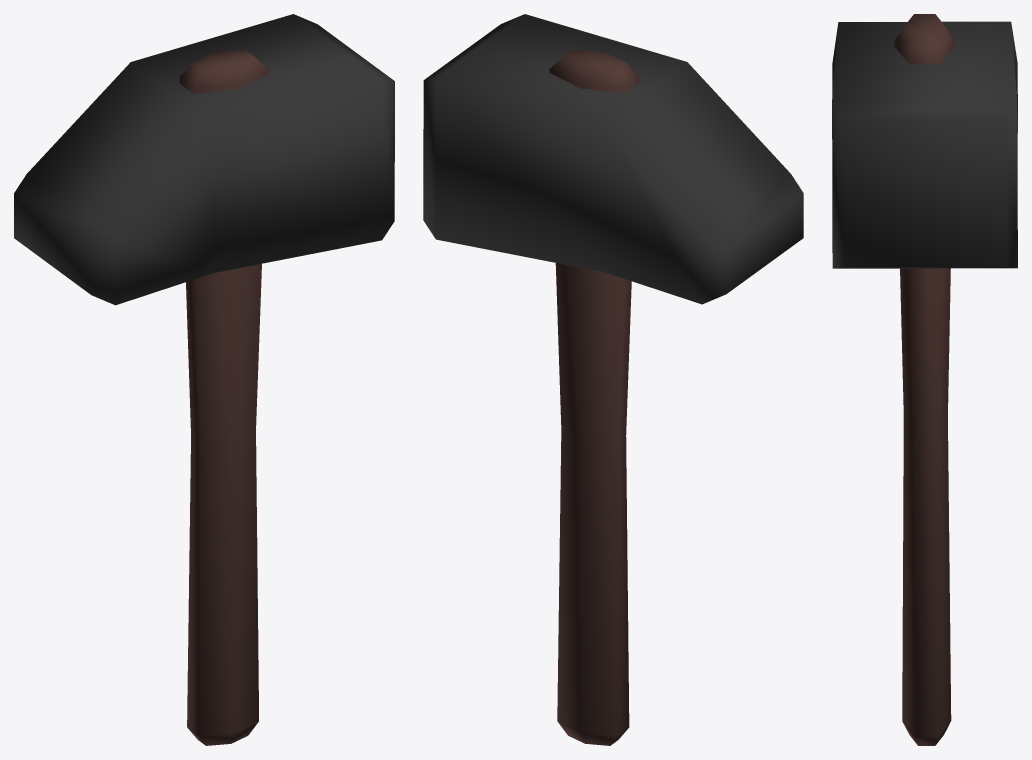
The model's file is hammer_v2.glb.
3 views of the same model, side by side, from view 1: azimuth 30°, elevation 25°; view 2: azimuth 150°, elevation 25°; view 3: azimuth 270°, elevation 25° (orthographic). The views are drawn at different scales.
Visible parts, largest first — view 1: Hammer_02; view 2: Hammer_02; view 3: Hammer_02.
Part boxes in pixels (x1,y1,x2,y2): Hammer_02: (14, 14, 394, 745); Hammer_02: (423, 14, 803, 745); Hammer_02: (832, 14, 1017, 745).
Bounding box in the file's own units: 0.1989 × 0.4251 × 0.1012.
1 material, 1 textured.
